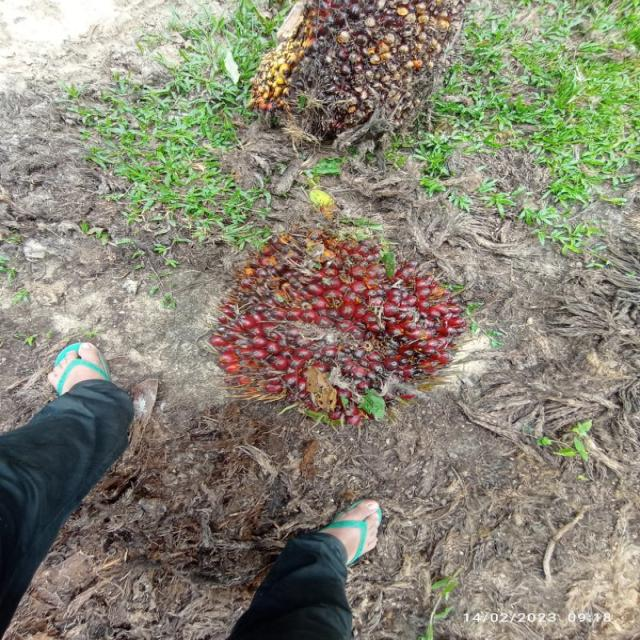fraksi 1: (177, 208, 482, 464)
